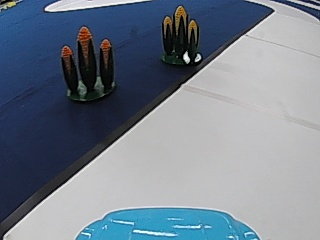corn: (59, 26, 119, 101), (158, 2, 203, 65)
